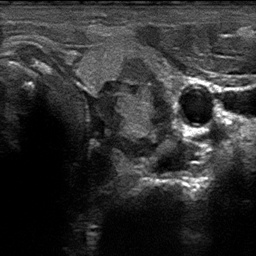mass: (102, 59, 172, 159)
